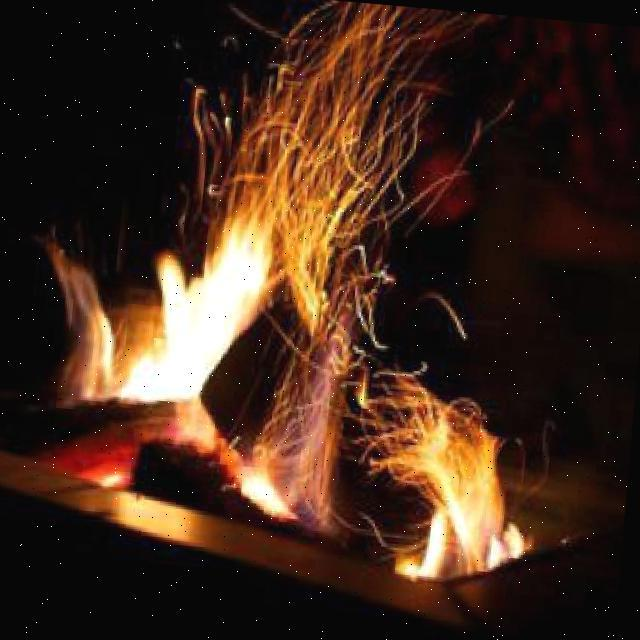Fire: (31, 201, 562, 597)
